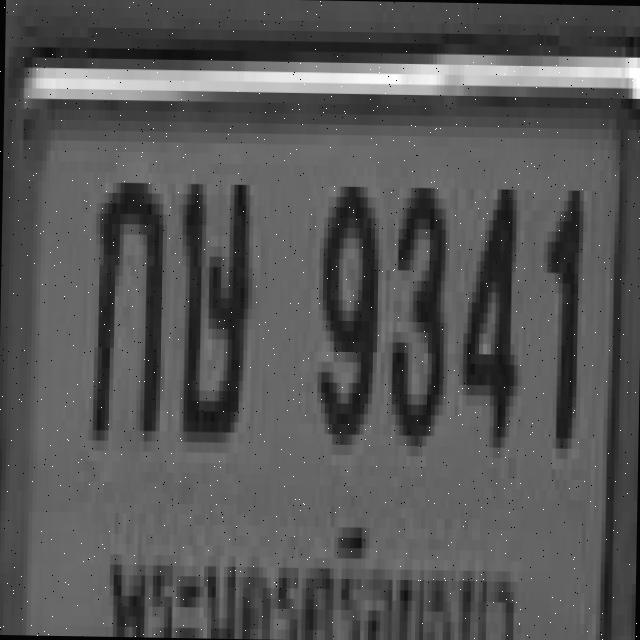1: (532, 172, 616, 496)
10GorGai: (78, 142, 170, 484)
3: (381, 160, 464, 492)
4: (456, 150, 526, 480)
48SorRueSi: (170, 139, 256, 485)
9: (311, 174, 386, 471)
Ayutthaya: (96, 502, 518, 640)
